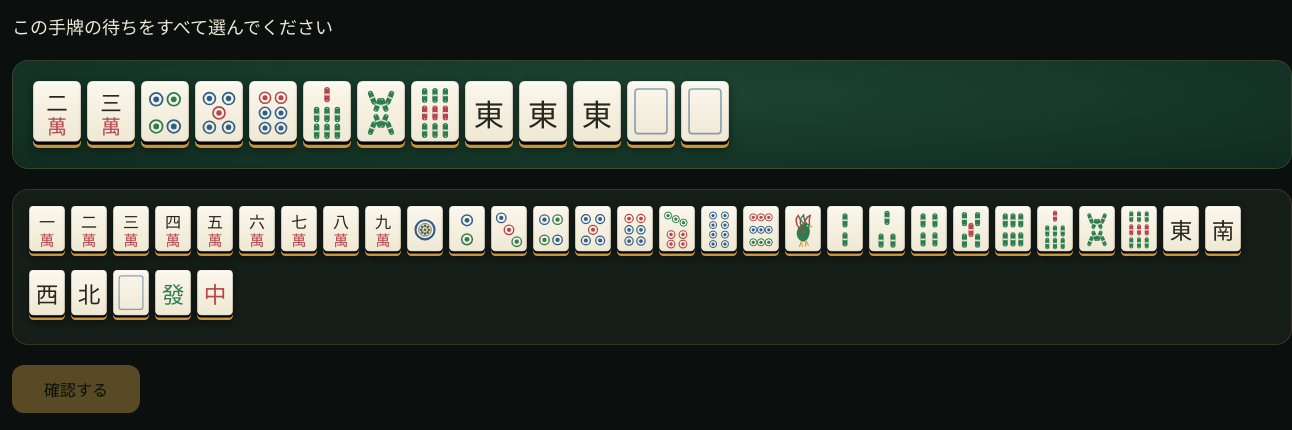
Test: SelectFromPaletteStepView waits-of-hand版 › 待ち以外を含む選択は不正解になる
Click the button named "一萬": (47, 231) top-left (29, 206), bottom-right (65, 256)
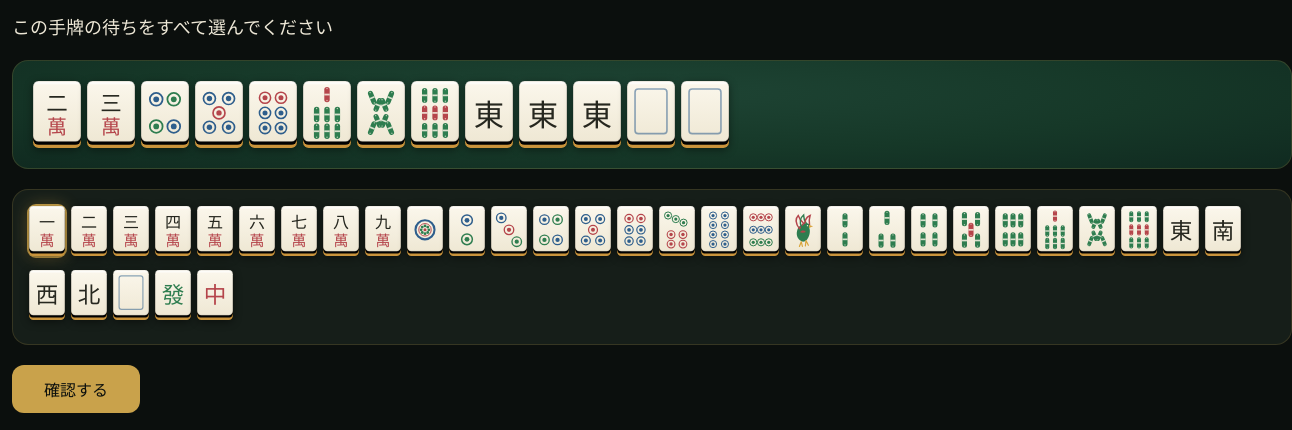
Click the button named "九筒": (761, 231) top-left (743, 206), bottom-right (779, 256)
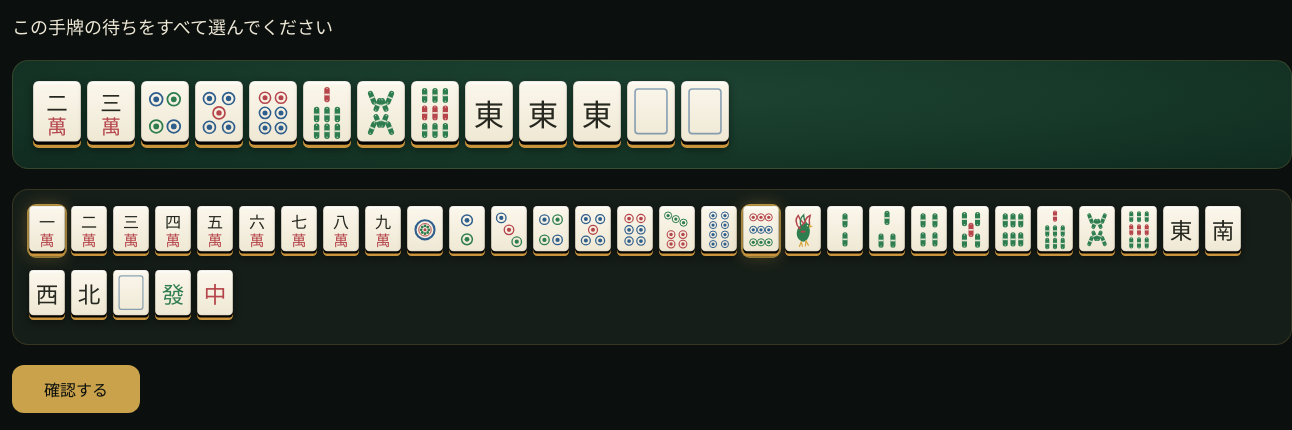
Click the button "確認する": (76, 389) top-left (12, 365), bottom-right (140, 413)
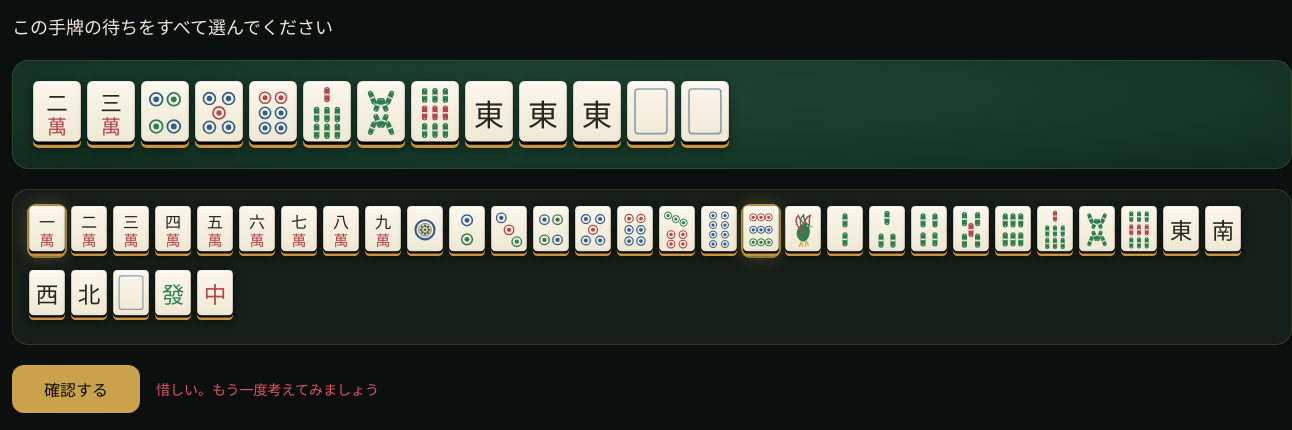
Result: the text "惜しい。もう一度考えてみましょう" is shown at top-left (156, 379), bottom-right (379, 399)
